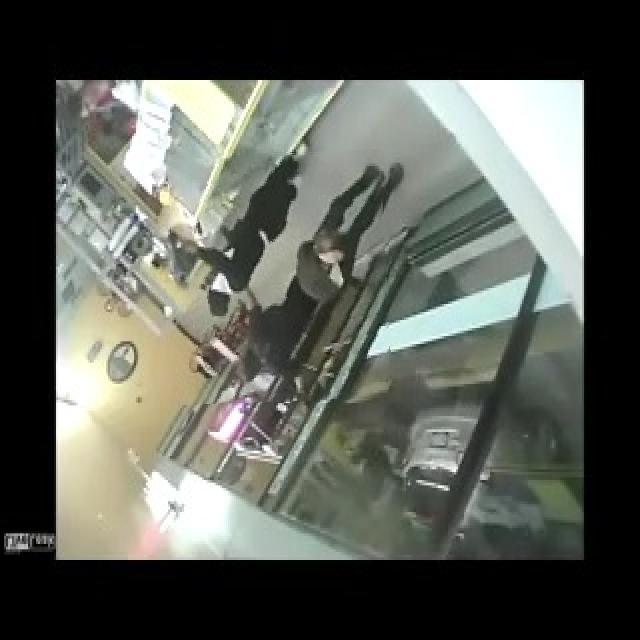Shoplifting: (170, 151, 389, 403)
